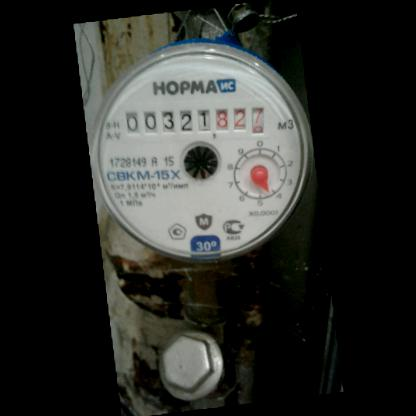digital_screen: (121, 103, 215, 142)
